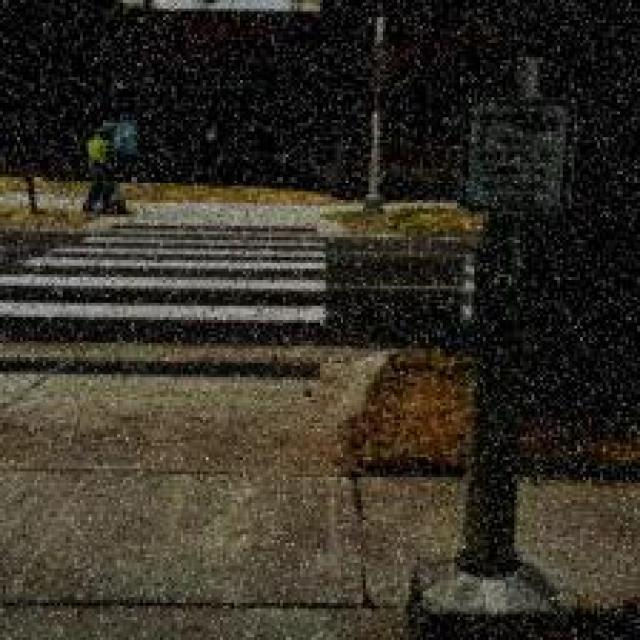crosswalk: (1, 216, 339, 343)
